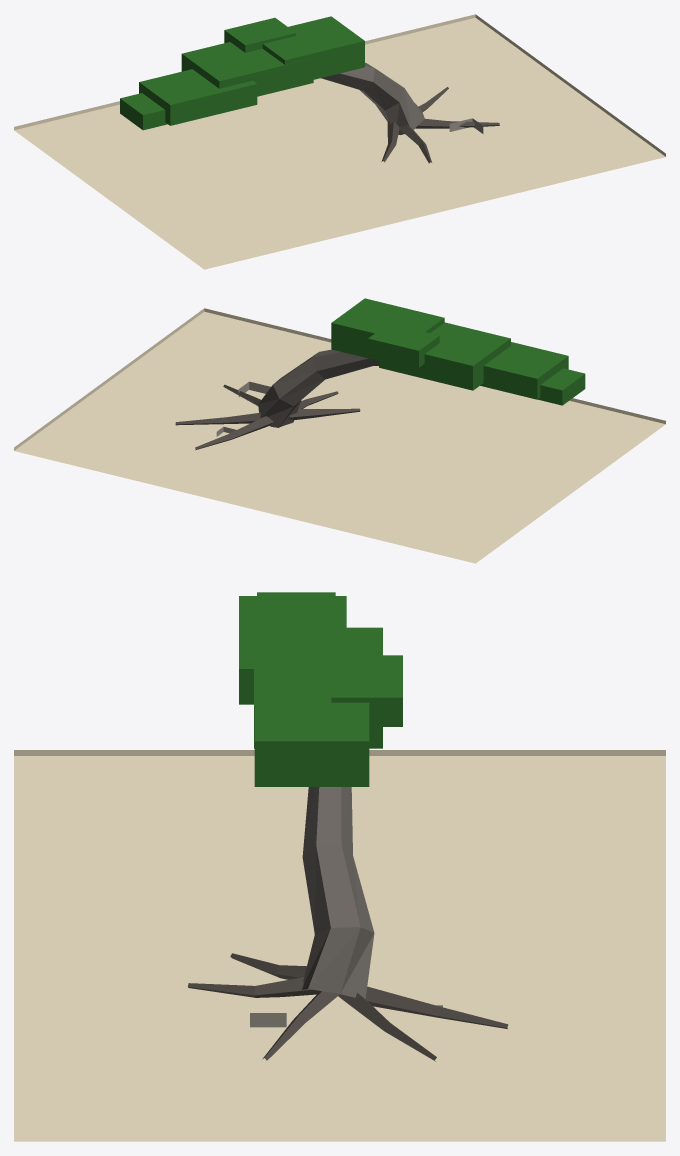
The model's file is eb_fofoti_12.glb.
3 renders of one model, top to bottom at view 1: azimuth 30°, elevation 25°; view 2: azimuth 150°, elevation 25°; view 3: azimuth 270°, elevation 25°, orthographic. The views are drawn at different scales.
Visible parts, largest first — view 1: eb_fofoti_12_lod0; view 2: eb_fofoti_12_lod0; view 3: eb_fofoti_12_lod0.
Boxes of the visible parts, x1=… form: eb_fofoti_12_lod0: x1=14, y1=14, x2=665, y2=269; eb_fofoti_12_lod0: x1=14, y1=298, x2=665, y2=563; eb_fofoti_12_lod0: x1=14, y1=592, x2=665, y2=1141.
Size of what is drawn, in the model's own units: 14 by 3.67 by 10.
